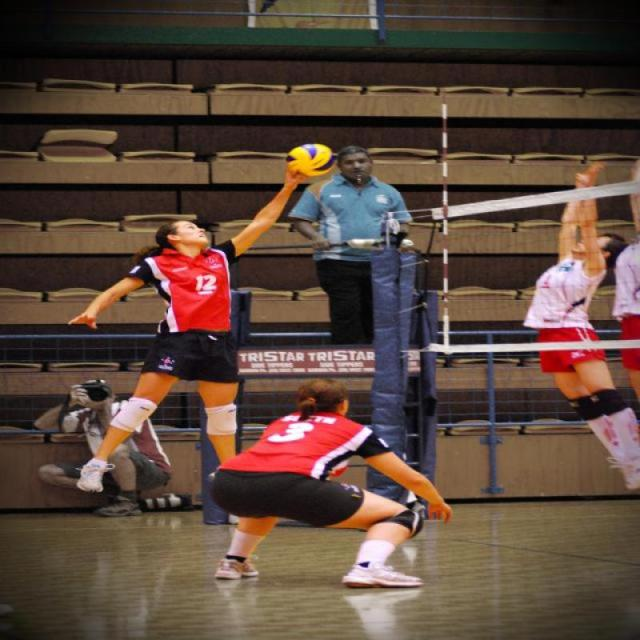volleyball: (286, 142, 336, 178)
